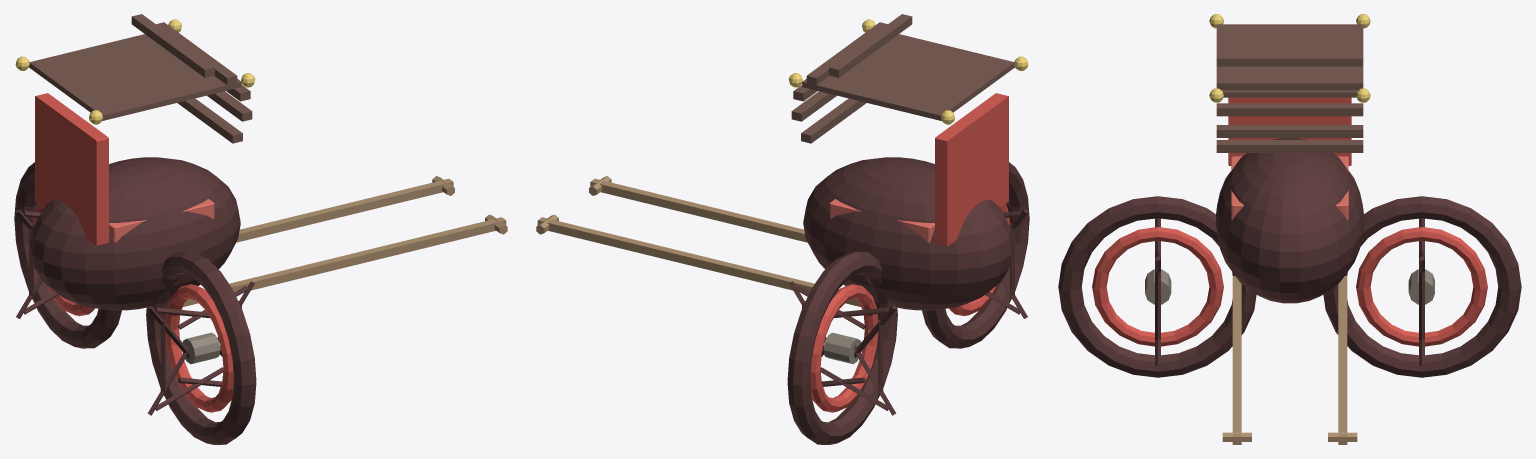
File: rickshaw.glb
The picture shows the model from 3 angles, left to right: view 1: azimuth 30°, elevation 25°; view 2: azimuth 150°, elevation 25°; view 3: azimuth 270°, elevation 25°; orthographic projection.
Visible parts, largest first — view 1: rickshaw; view 2: rickshaw; view 3: rickshaw.
Part boxes in pixels (box(x1,y1,x2,y2)): rickshaw: box(14, 14, 507, 444); rickshaw: box(536, 14, 1029, 444); rickshaw: box(1058, 14, 1521, 444).
Bounding box in the file's own units: 1.74 × 1.28 × 1.58.
